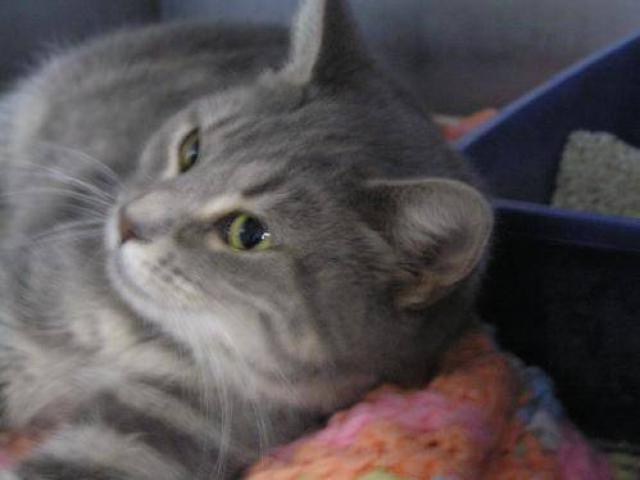cat: (34, 8, 490, 433)
